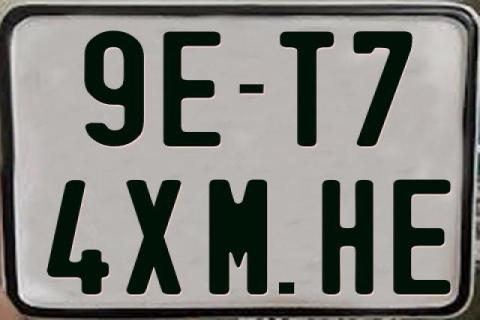0: (83, 28, 147, 146), (45, 179, 110, 295), (352, 32, 413, 152)
E: (161, 29, 223, 147), (392, 178, 452, 294)
H: (322, 180, 374, 294)
M: (206, 179, 270, 297)
T: (280, 29, 336, 144)
X: (126, 178, 185, 296)
